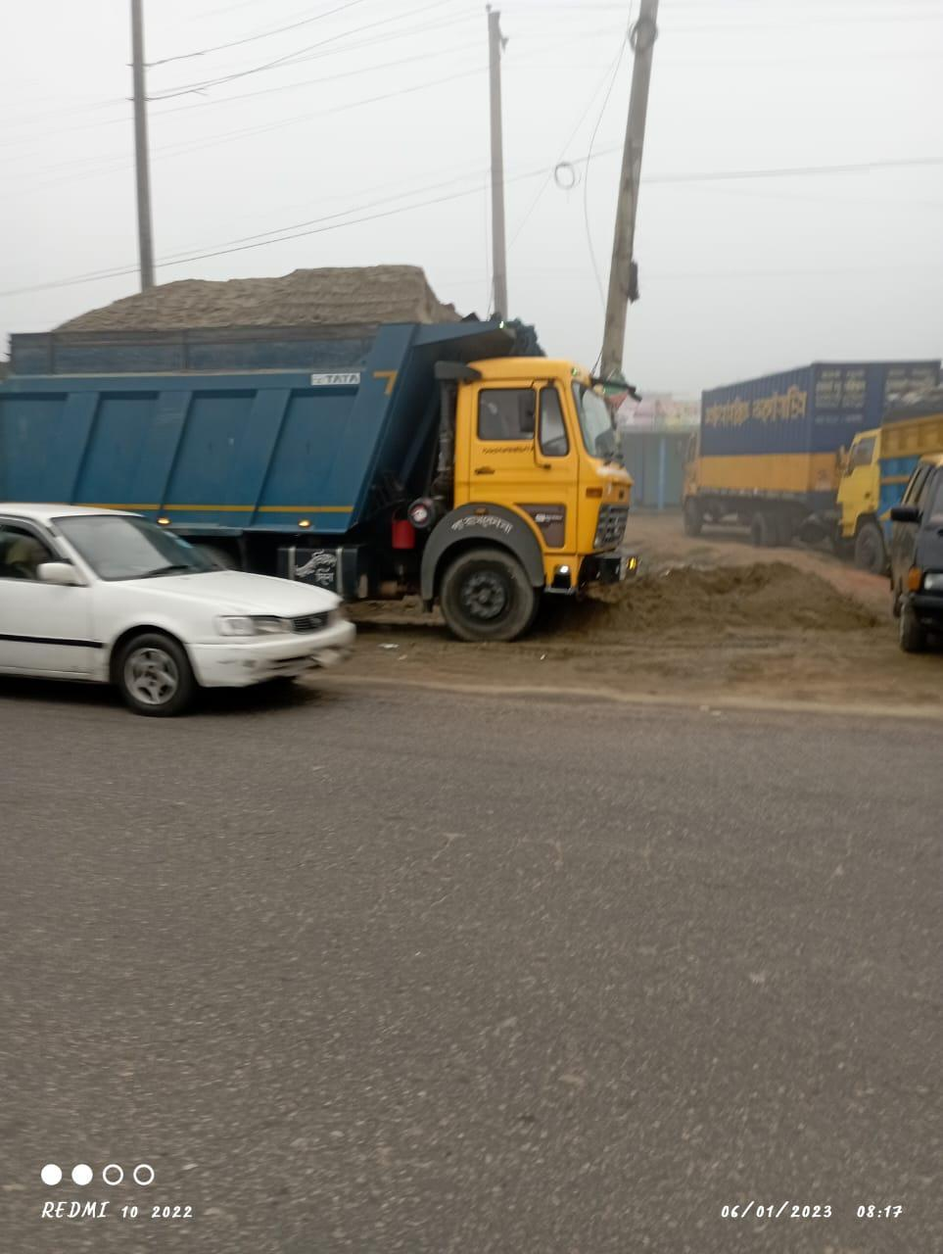Car: (1, 501, 365, 718), (885, 446, 943, 651)
Truck: (14, 263, 651, 606), (682, 357, 856, 545)
